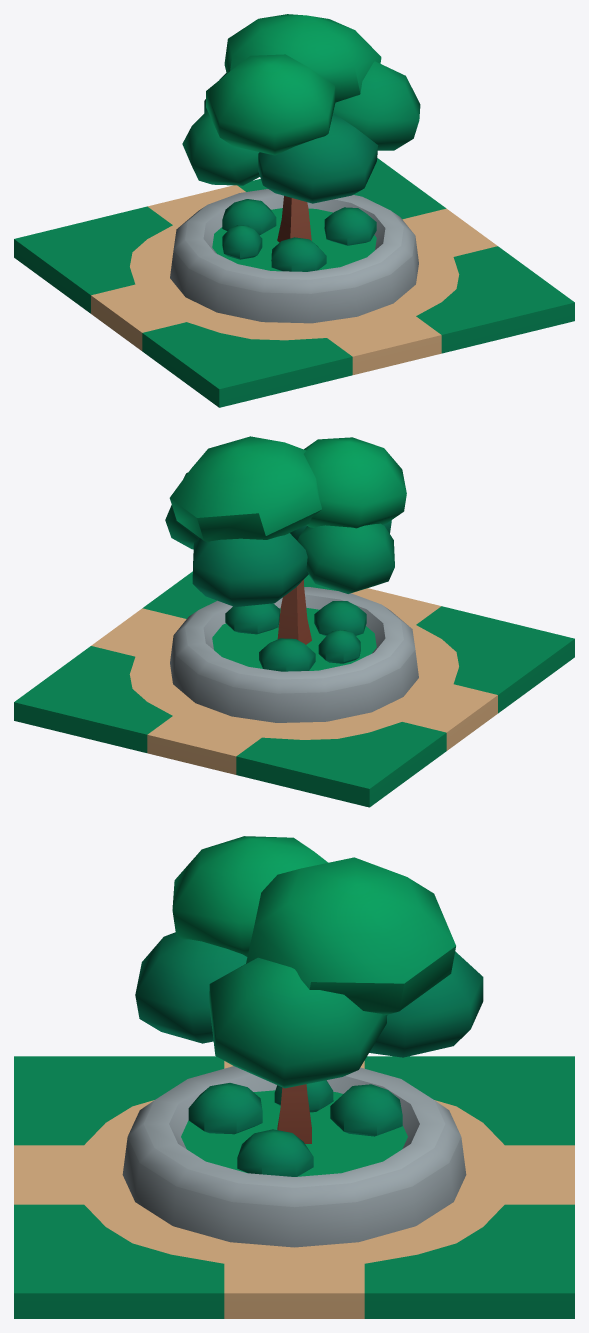
File: park_road_junction_decorated_B.glb
3 renders of one model, top to bottom at view 1: azimuth 30°, elevation 25°; view 2: azimuth 150°, elevation 25°; view 3: azimuth 270°, elevation 25°, orthographic. The views are drawn at different scales.
Parts seen in each view (by area): view 1: park_road_junction_decorated_B; view 2: park_road_junction_decorated_B; view 3: park_road_junction_decorated_B.
Part boxes in pixels (x1=…): park_road_junction_decorated_B: x1=14, y1=14, x2=574, y2=407; park_road_junction_decorated_B: x1=14, y1=436, x2=574, y2=807; park_road_junction_decorated_B: x1=14, y1=836, x2=574, y2=1318.
Bounding box in the file's own units: 2 × 1.34 × 2.
1 material, 1 textured.
